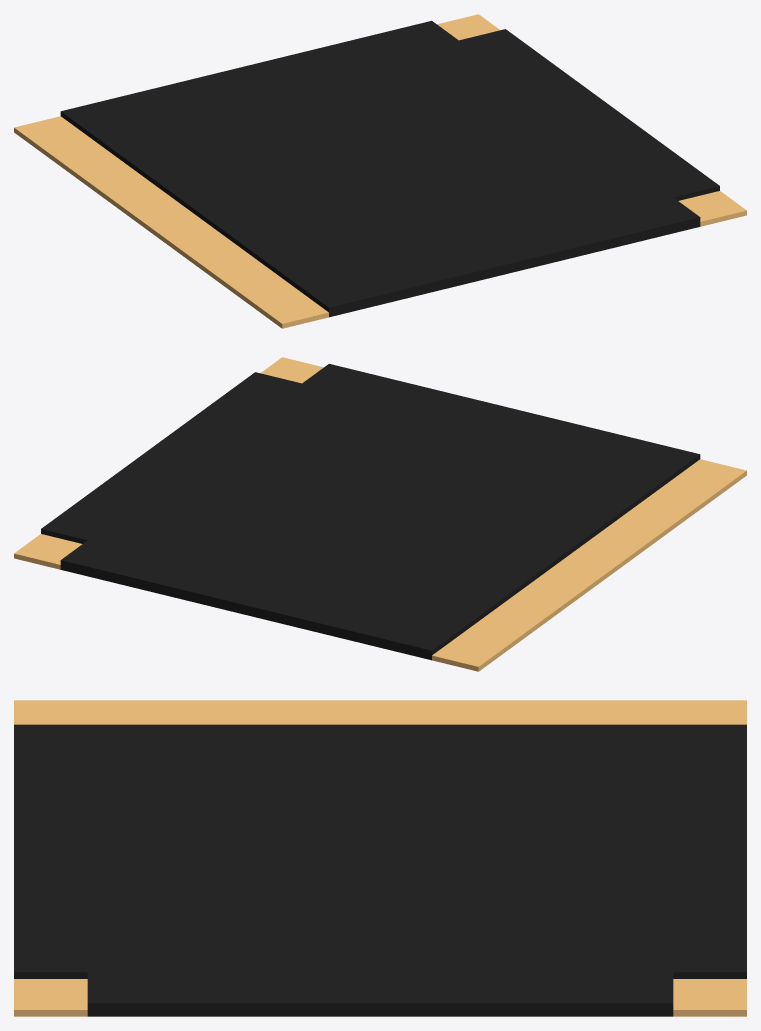
Rendered from NOVA FASE BASE Asfalto T.fbx.
3 views of the same model, one above another, from view 1: azimuth 30°, elevation 25°; view 2: azimuth 150°, elevation 25°; view 3: azimuth 270°, elevation 25° (orthographic). The views are drawn at different scales.
Parts seen in each view (by area): view 1: Asfalto T; view 2: Asfalto T; view 3: Asfalto T.
Part boxes in pixels (x1=…): Asfalto T: x1=14, y1=14, x2=746, y2=328; Asfalto T: x1=14, y1=357, x2=746, y2=671; Asfalto T: x1=14, y1=700, x2=746, y2=1016.
Bounding box in the file's own units: 5 × 0.1 × 5.
